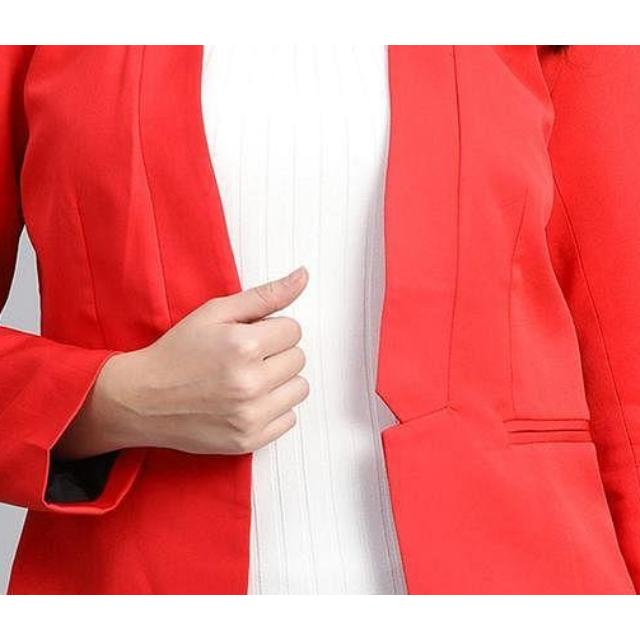polyester: (0, 45, 640, 595)
